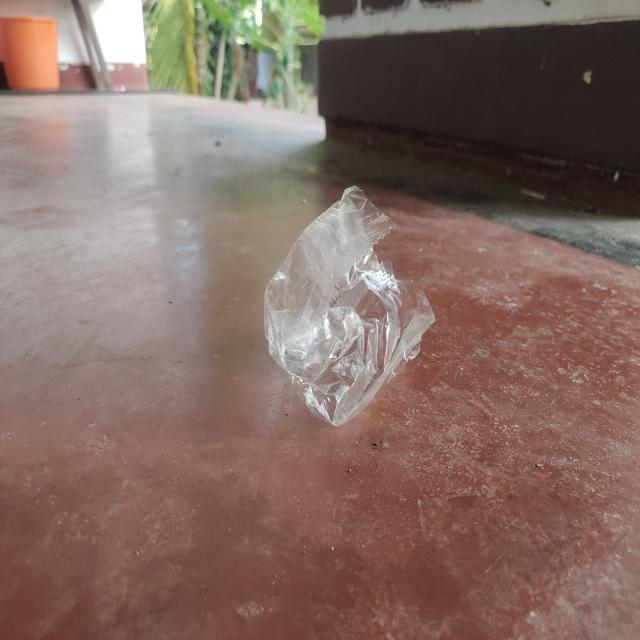plastic: (266, 182, 438, 424)
